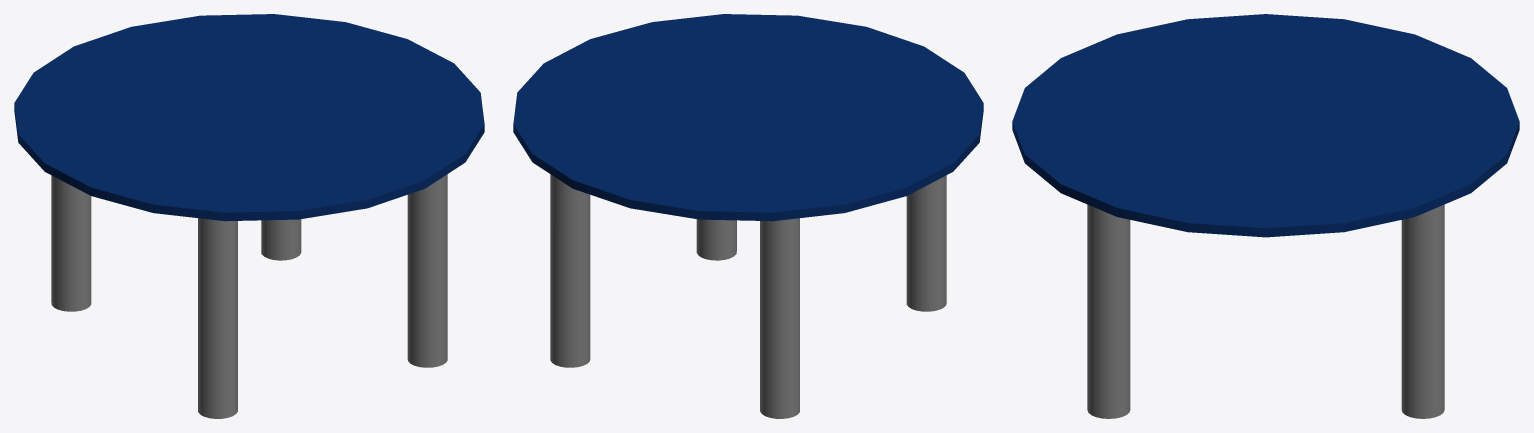
File: prp_roundtable.fbx
The picture shows the model from 3 angles, left to right: view 1: azimuth 30°, elevation 25°; view 2: azimuth 150°, elevation 25°; view 3: azimuth 270°, elevation 25°; orthographic projection. The views are drawn at different scales.
Visible parts, largest first — view 1: prp_roundtable; view 2: prp_roundtable; view 3: prp_roundtable.
Part boxes in pixels (x1,y1,x2,y2): prp_roundtable: (14, 14, 484, 418); prp_roundtable: (513, 14, 983, 418); prp_roundtable: (1012, 14, 1519, 418).
Bounding box in the file's own units: 3.65 × 1.86 × 3.65.
